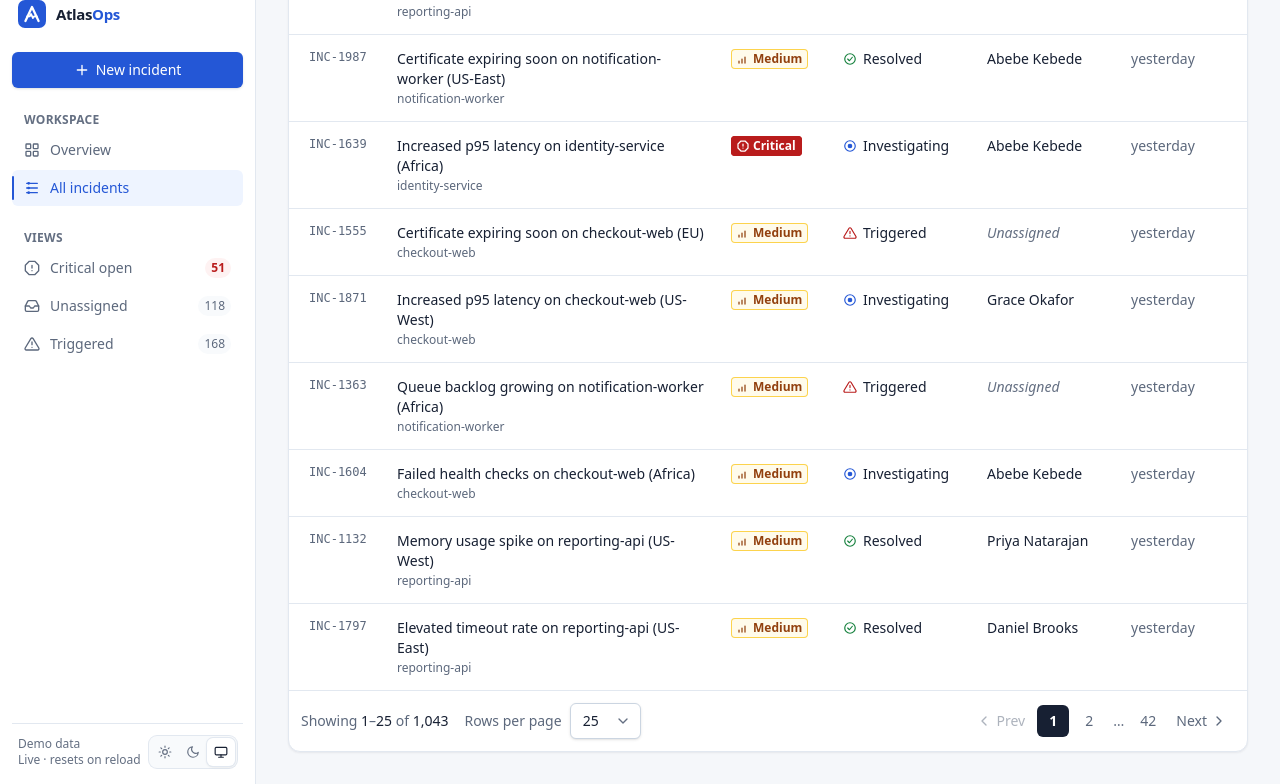
Incident list page › paginates and keeps the page in the URL
(page scrolled)
Click the button with aria-label "Next page" at (1202, 721), box [1168,705,1235,737]
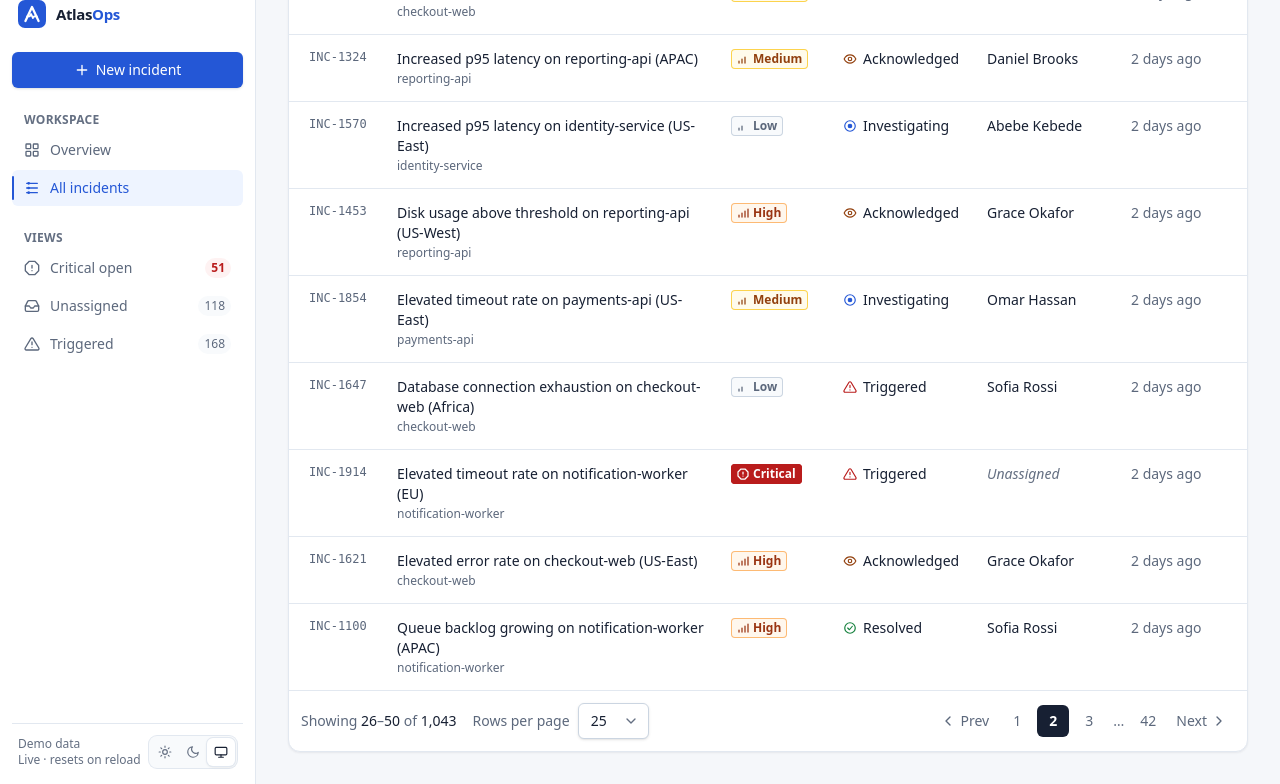
Now the text "Showing 26–50 of 1,043" is shown, box [301,711,456,731]
